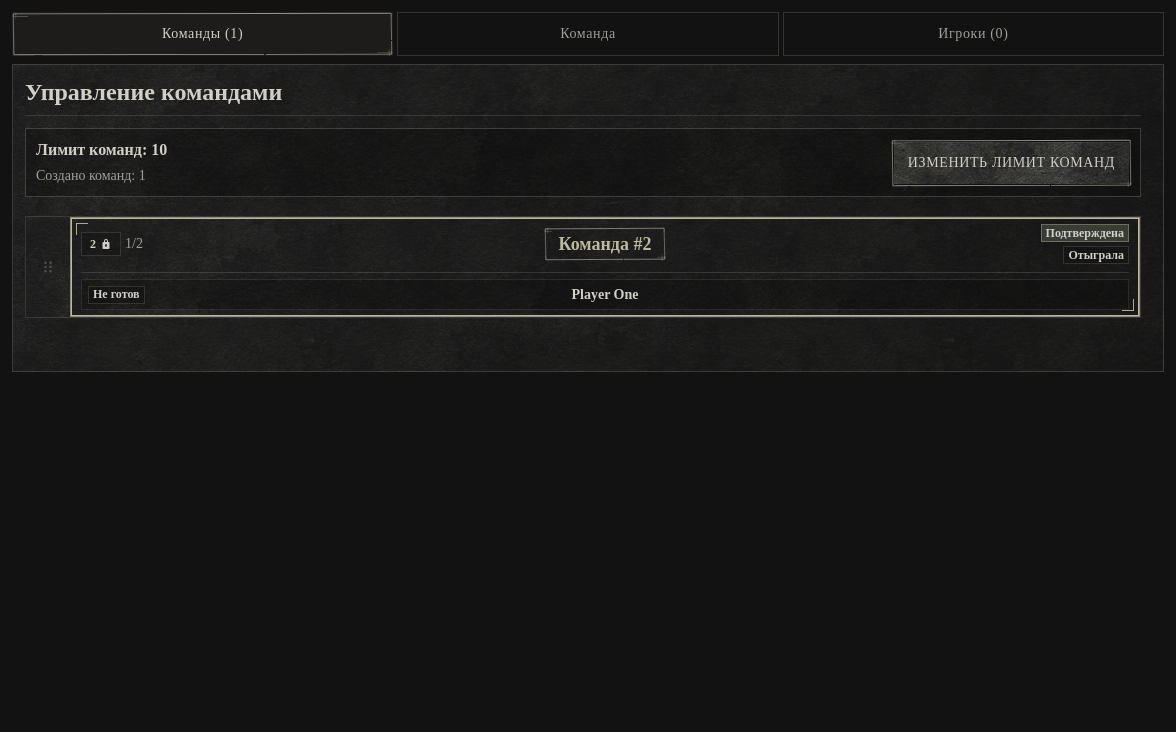
Scenario: TeamRegistrationsPage › explains why disbanding is blocked (Команда уже открывала карточку или отмечена отыгравшей. Роспуск и отмена подтверждения недоступны.)
Click the button with aria-label "Управление:" at {"x": 101, "y": 244}, box [70,217,1140,317]
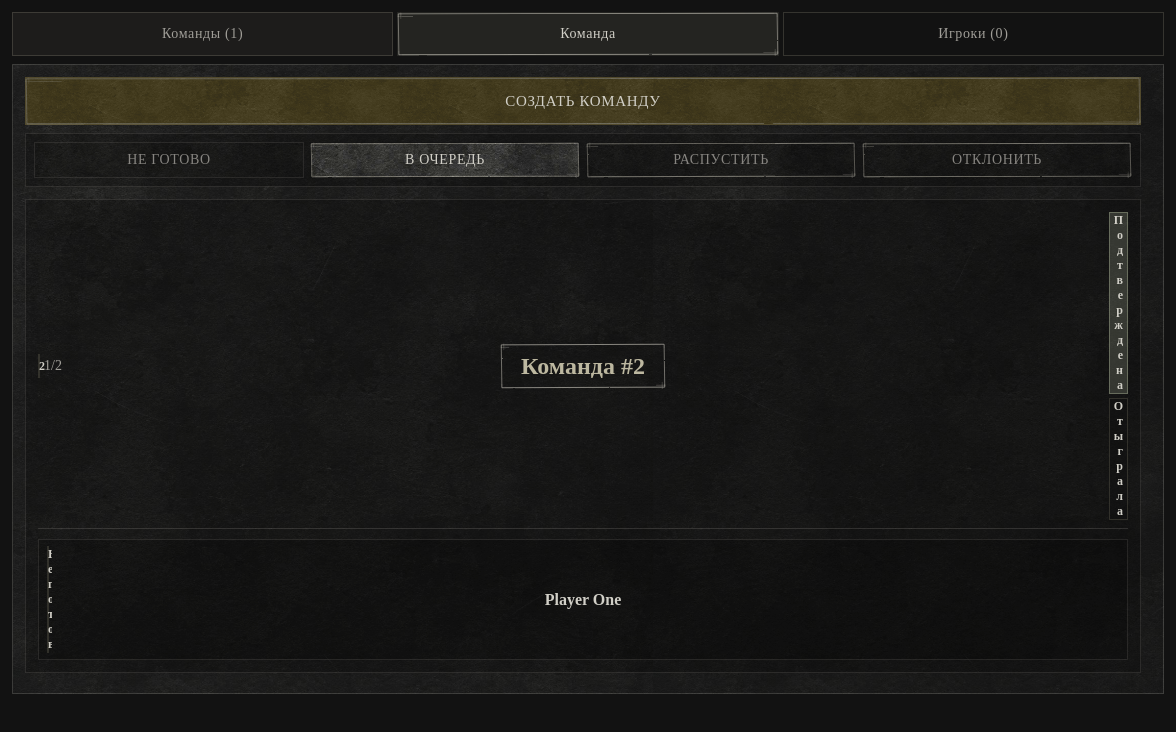
expect the button "Распустить" is disabled: met
Hover over the element showing "Распустить" at {"x": 721, "y": 160}, box [586,142,856,178]
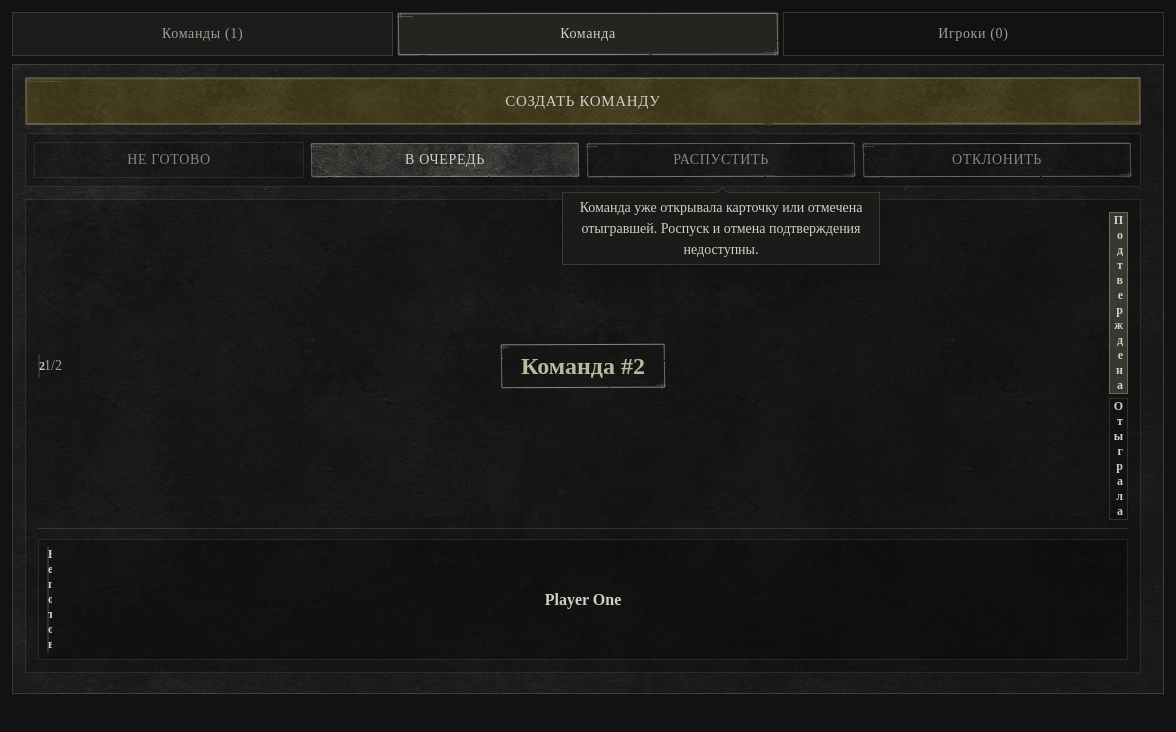
expect the tooltip shows "Команда уже открывала карточку или отмечена отыгравшей. Роспуск и отмена подтверждения недоступны.": met, box [580,200,862,257]
